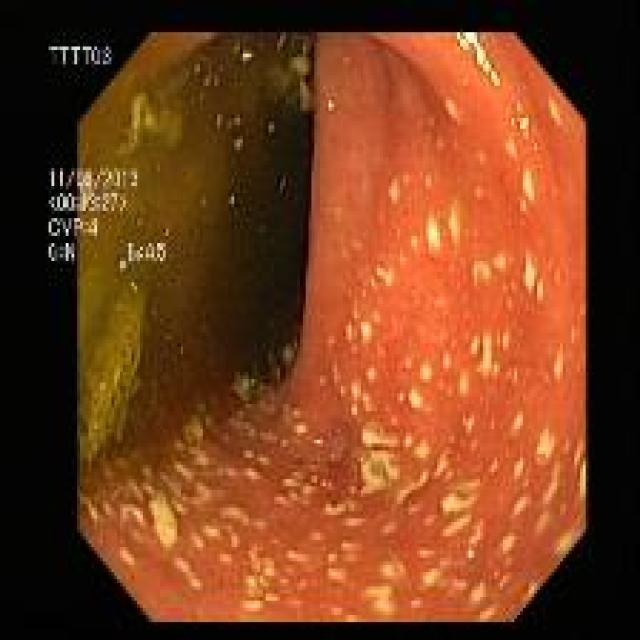ulcerative-colitis: (81, 34, 586, 620)
